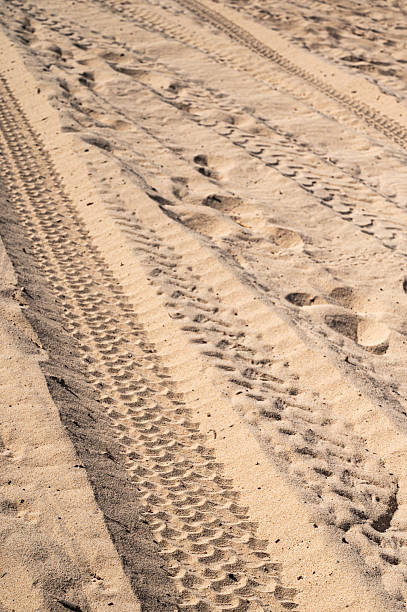vehicle_track: (0, 77, 294, 610), (178, 0, 406, 147)
